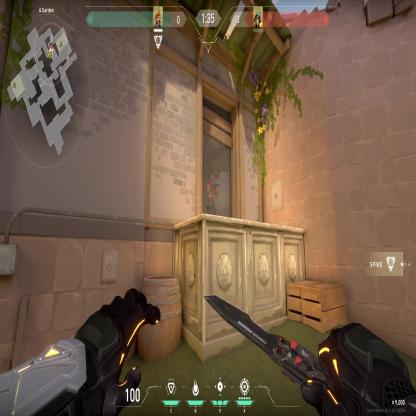enemy: (206, 172, 218, 216)
